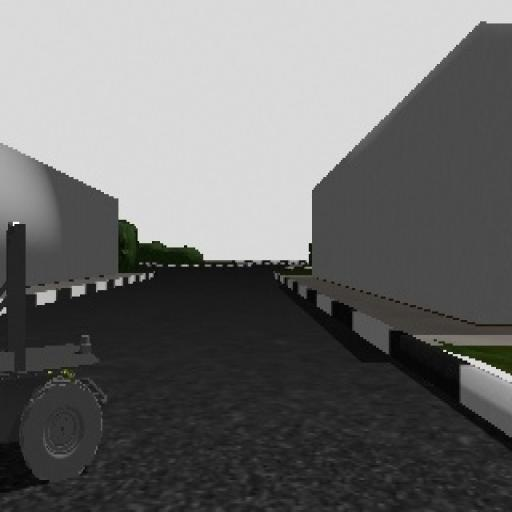huskya200: (0, 207, 122, 512)
